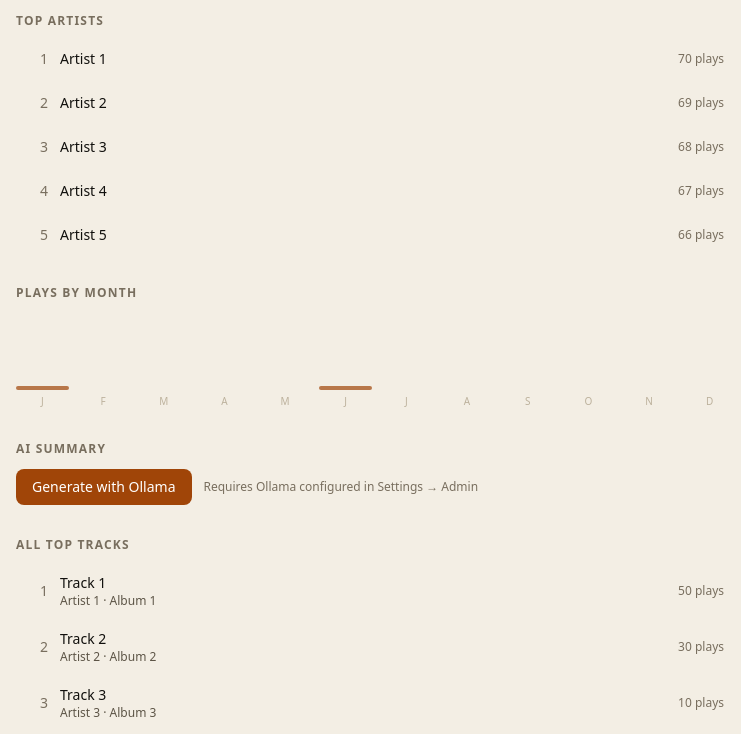
Test: WrappedPage — AI summary › disables the button and says Generating… while waiting
(page scrolled)
Click the button "Generate with Ollama": x=104, y=487 [16,469,192,505]
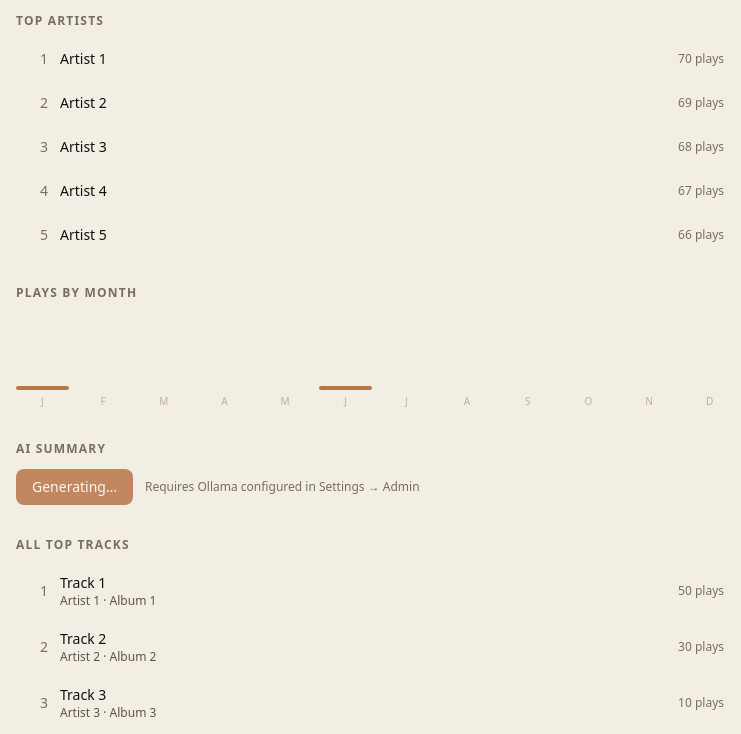
Now the button "Generating…" is disabled, box [16,469,133,505]
